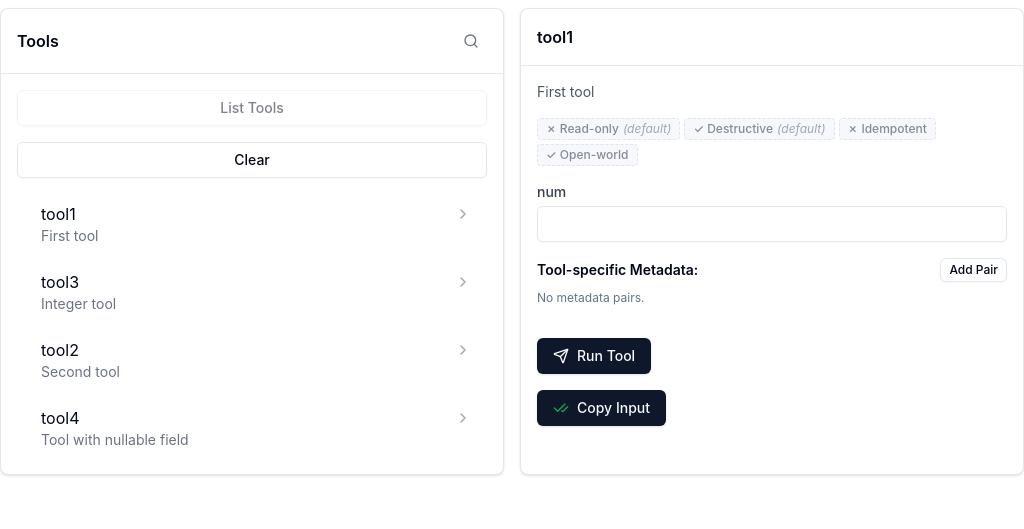
Test: ToolsTab › Reserved metadata keys › should block execution when invalid prefix label is provided
Click the button "Add Pair": [974, 270] box [940,258,1007,282]
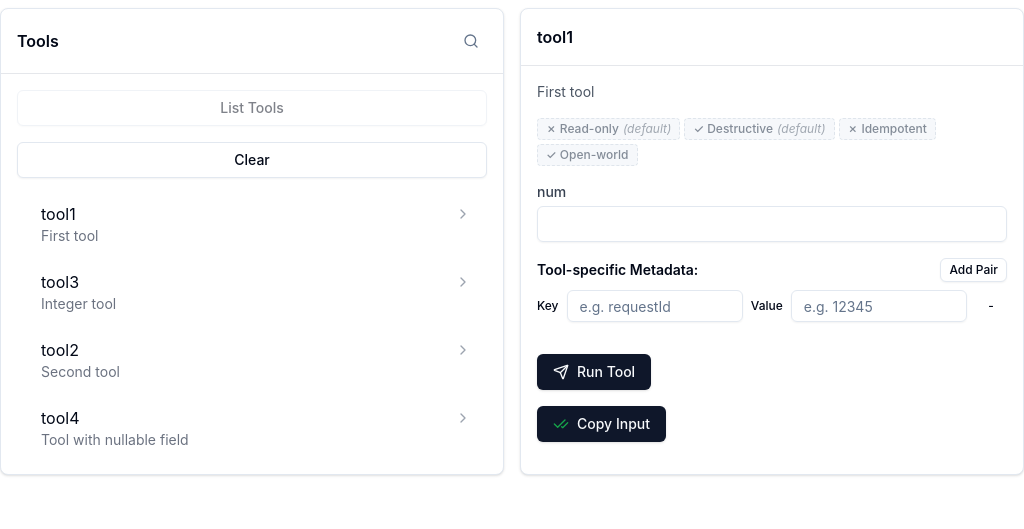
In the field with placeholder "e.g. requestId": [655, 306] box [566,290,743,322], type "1invalid-prefix/value"
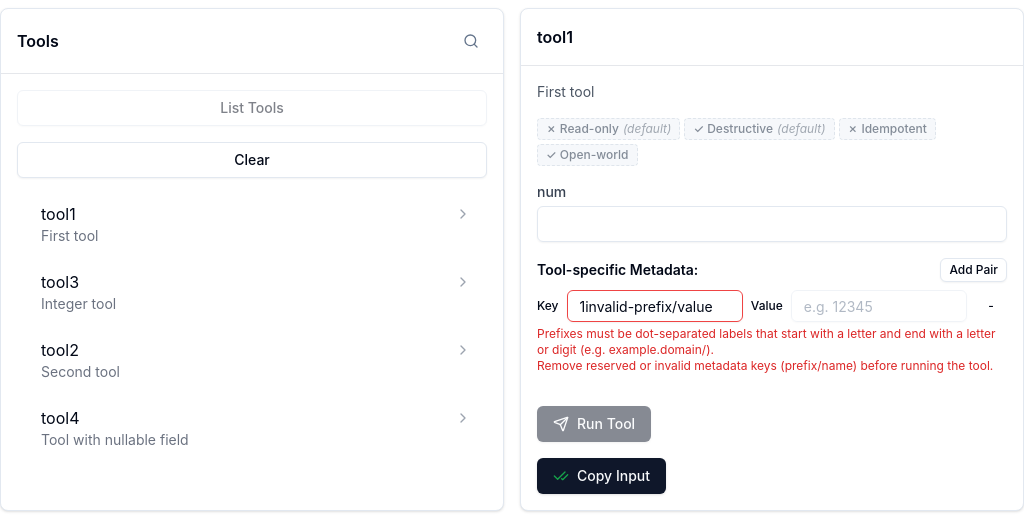
Now the button "Run Tool" is disabled, box [537,406,651,442]
Now the text "Prefixes must be dot-separated labels that start with a letter and end with a letter or digit (e.g. example.domain/)." is shown, box [537,326,996,357]
